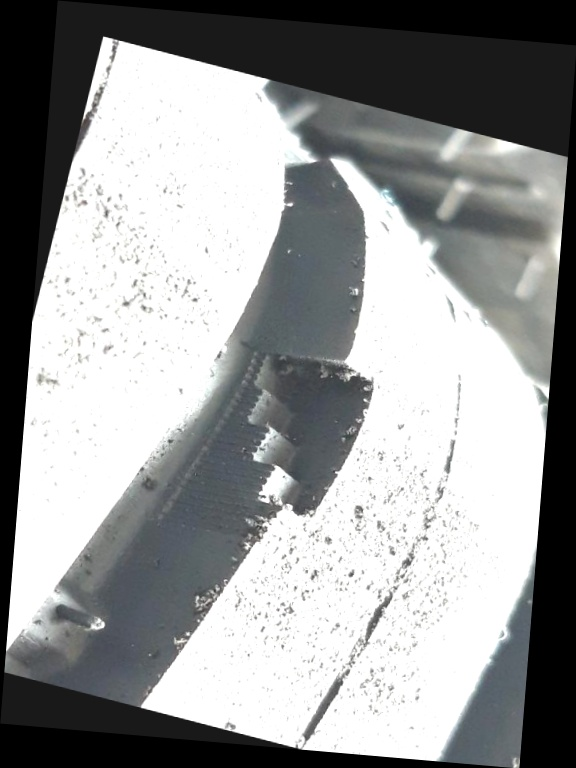temoin:95: (156, 309, 401, 580)
